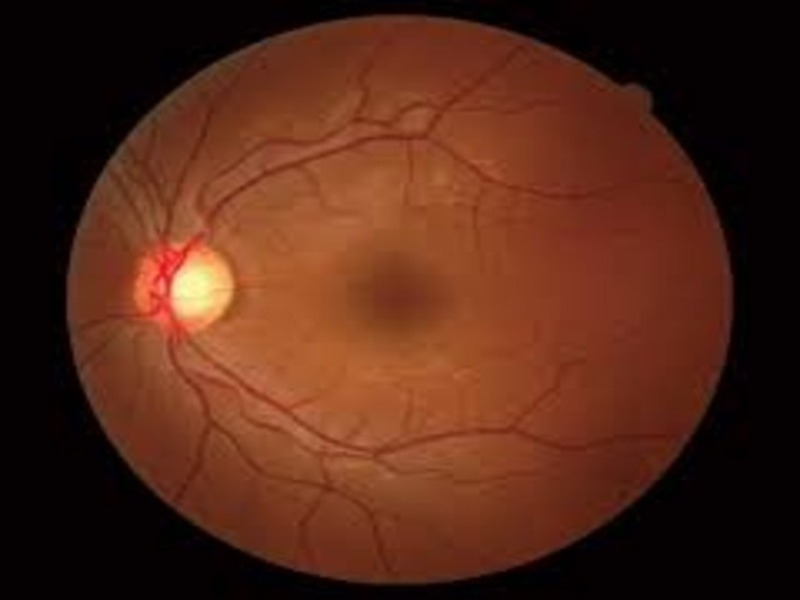Optic Cup: (169, 270, 211, 309)
Optic Disc: (133, 235, 235, 338)
